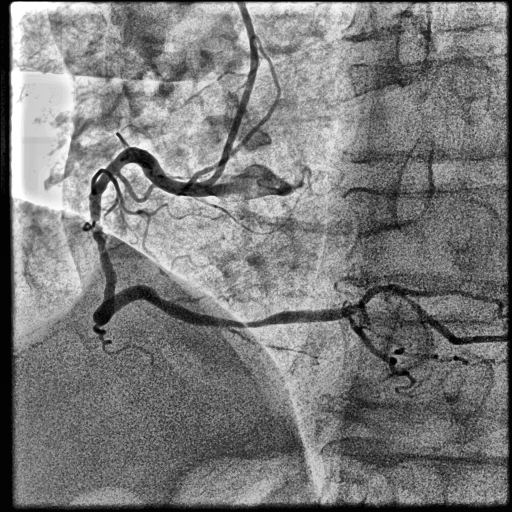pborca: (344, 285, 510, 319)
pda: (345, 315, 415, 399)
rca: (89, 147, 351, 328)
